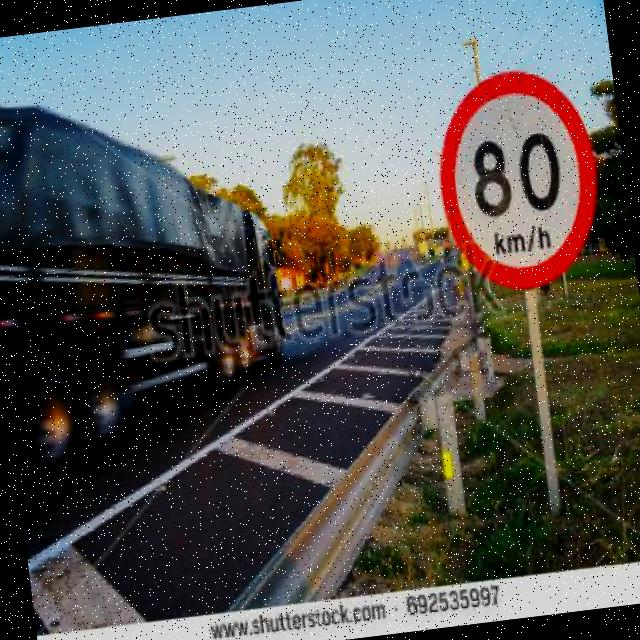Ograniczenie predkosci do 80: (437, 78, 600, 284)
